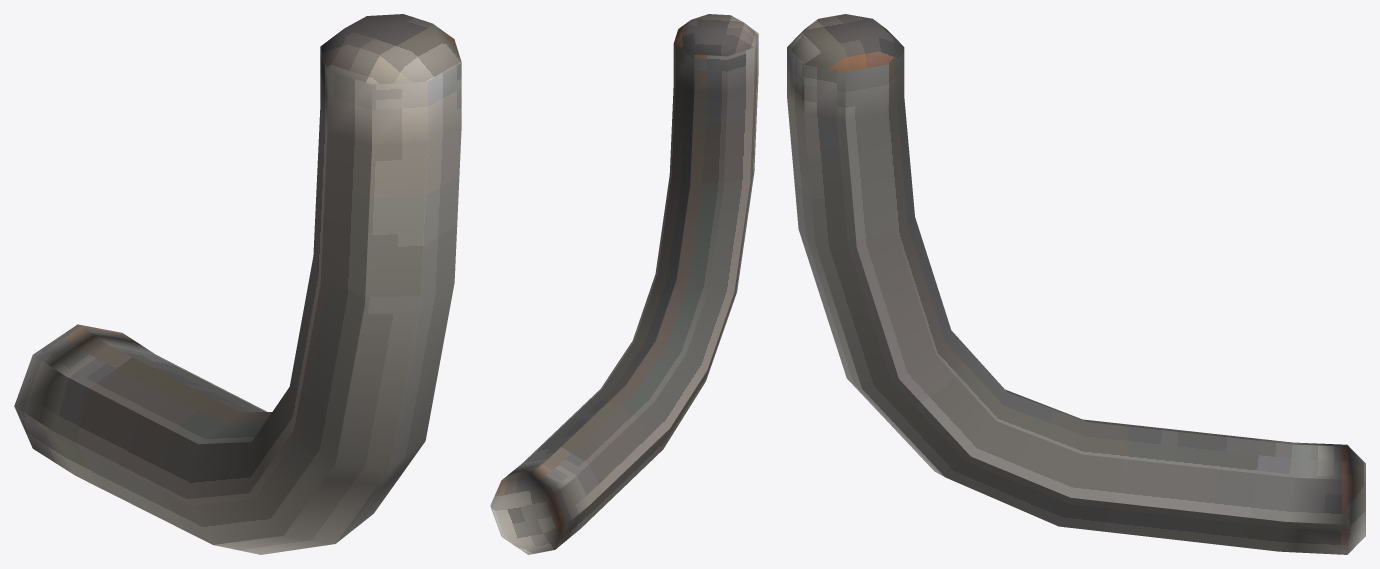
File: item_metal_rod_curved.glb
The picture shows the model from 3 angles, left to right: view 1: azimuth 30°, elevation 25°; view 2: azimuth 150°, elevation 25°; view 3: azimuth 270°, elevation 25°; orthographic projection. The views are drawn at different scales.
Parts seen in each view (by area): view 1: MetalRodCurve; view 2: MetalRodCurve; view 3: MetalRodCurve.
Boxes of the visible parts, x1,y1,x2,y2 form: MetalRodCurve: (14,14,461,554); MetalRodCurve: (490,14,758,554); MetalRodCurve: (787,14,1365,554).
Bounding box in the file's own units: 0.1475 × 0.725 × 0.7278.
1 material, 1 textured.
